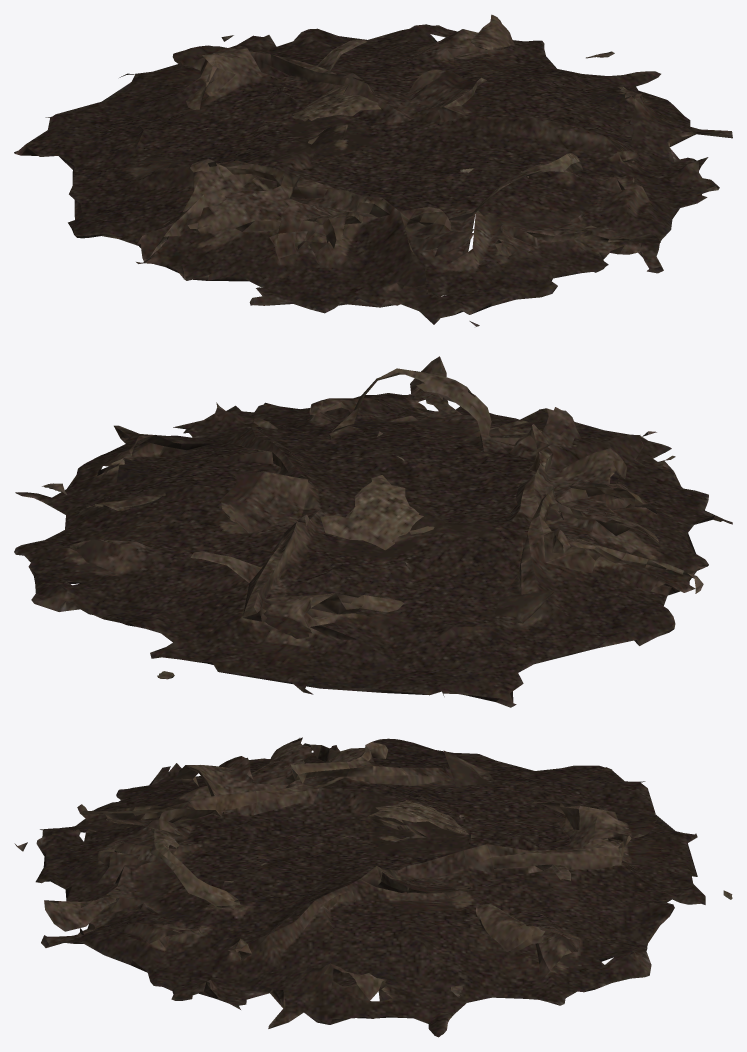
Rendered from b6-leaves-pixelated.glb.
The picture shows the model from 3 angles, top to bottom: view 1: azimuth 30°, elevation 25°; view 2: azimuth 150°, elevation 25°; view 3: azimuth 270°, elevation 25°; orthographic projection. The views are drawn at different scales.
Parts seen in each view (by area): view 1: b6-leaves.glb; view 2: b6-leaves.glb; view 3: b6-leaves.glb.
Part boxes in pixels (x1,y1,x2,y2): b6-leaves.glb: (14, 14, 732, 326); b6-leaves.glb: (14, 356, 732, 707); b6-leaves.glb: (14, 737, 732, 1037).
Size of the model in its own units: 1.72 by 0.219 by 1.77.
Materials: 1 (1 with a texture image).
